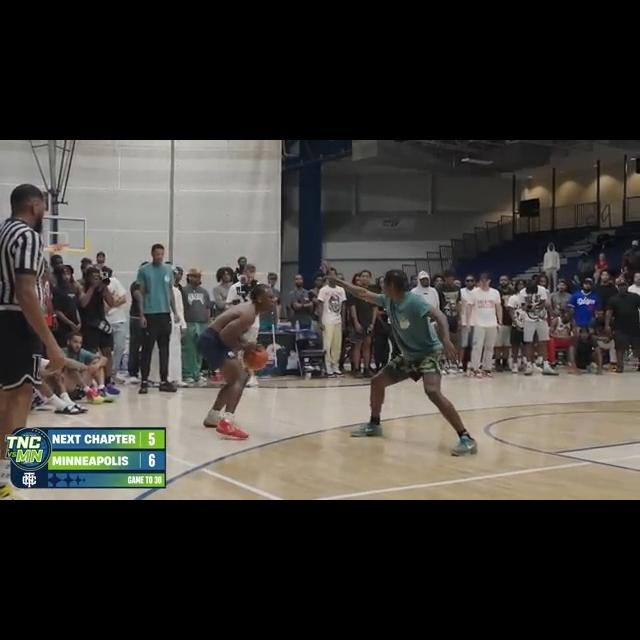basketball: (244, 345, 268, 369)
